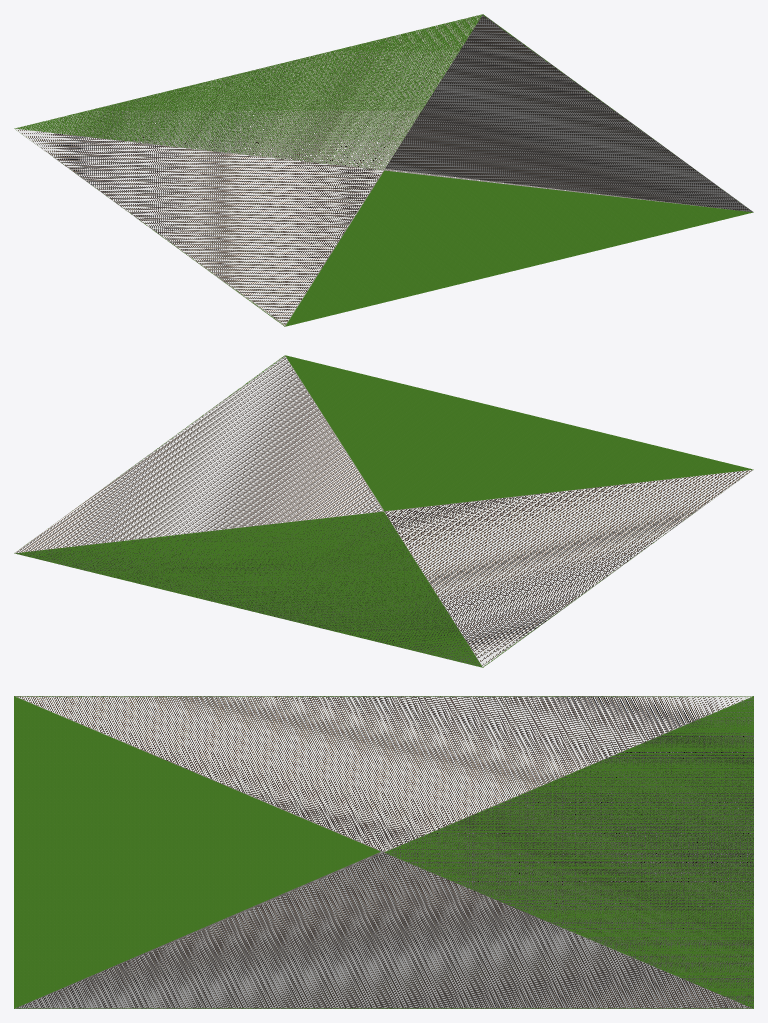
Rendered from frame4.obj.
3 renders of one model, top to bottom at view 1: azimuth 30°, elevation 25°; view 2: azimuth 150°, elevation 25°; view 3: azimuth 270°, elevation 25°, orthographic. The views are drawn at different scales.
Parts seen in each view (by area): view 1: Cube, ground; view 2: Cube, ground; view 3: Cube, ground.
Part boxes in pixels (x1,y1,x2,y2): Cube: [15, 14, 752, 326]; ground: [14, 14, 753, 326]; Cube: [14, 355, 753, 667]; ground: [14, 355, 753, 667]; Cube: [15, 696, 753, 1008]; ground: [14, 696, 753, 1008].
Size of the model in its own units: 2000 by 7 by 2000.
